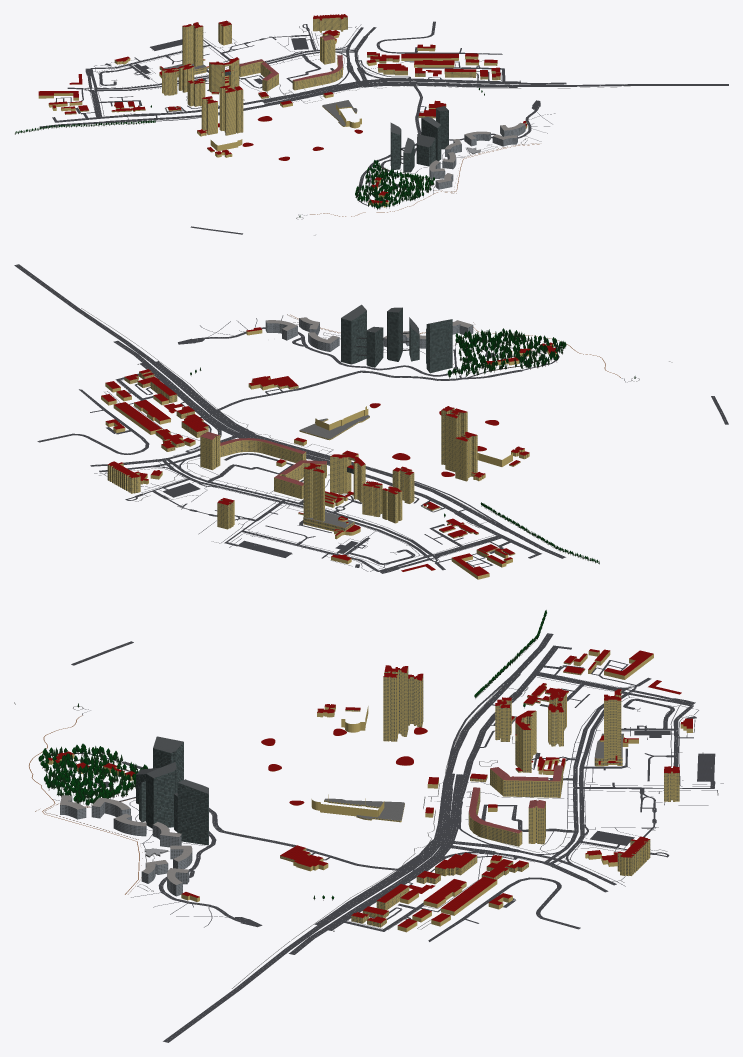
The model's file is osm3d.glb.
3 views of the same model, one above another, from view 1: azimuth 30°, elevation 25°; view 2: azimuth 150°, elevation 25°; view 3: azimuth 270°, elevation 25° (orthographic). The views are drawn at different scales.
Visible parts, largest first — view 1: ASPHALT, Plaster002, RoofingTiles010, Windows, TextureAtlas 99ebfc47, GLASS_WALL, Concrete034.002, Concrete034, Windows.001, Concrete034.001, RoofingTiles010.001; view 2: ASPHALT, Plaster002, RoofingTiles010, Windows, GLASS_WALL, TextureAtlas 99ebfc47, Concrete034.002, Concrete034, RoofingTiles010.001, Windows.001; view 3: ASPHALT, Plaster002, RoofingTiles010, Windows, GLASS_WALL, TextureAtlas 99ebfc47, Concrete034.002, Concrete034, Windows.001, RoofingTiles010.001, Concrete034.001.
Part boxes in pixels (box(x1,y1,x2,y2)): ASPHALT: box(39, 21, 728, 234); Plaster002: box(38, 17, 527, 207); RoofingTiles010: box(38, 14, 527, 203); Windows: box(65, 17, 500, 151); TextureAtlas 99ebfc47: box(15, 88, 484, 217); GLASS_WALL: box(225, 71, 448, 172); Concrete034.002: box(429, 122, 525, 189); Concrete034: box(100, 26, 630, 235); Windows.001: box(430, 126, 524, 189); Concrete034.001: box(390, 106, 448, 153); RoofingTiles010.001: box(239, 34, 342, 81); ASPHALT: box(14, 264, 728, 573); Plaster002: box(101, 330, 556, 579); RoofingTiles010: box(101, 327, 556, 575); Windows: box(107, 372, 519, 554); GLASS_WALL: box(341, 308, 452, 473); TextureAtlas 99ebfc47: box(190, 328, 635, 564); Concrete034.002: box(265, 317, 473, 351); Concrete034: box(81, 308, 672, 564); RoofingTiles010.001: box(200, 432, 326, 485); Windows.001: box(266, 320, 472, 351); ASPHALT: box(53, 633, 723, 1042); Plaster002: box(47, 651, 692, 932); RoofingTiles010: box(48, 649, 692, 927); Windows: box(280, 657, 679, 926); GLASS_WALL: box(136, 742, 208, 845); TextureAtlas 99ebfc47: box(38, 610, 546, 900); Concrete034.002: box(60, 795, 192, 896); Concrete034: box(14, 685, 718, 988); Windows.001: box(60, 801, 192, 895); RoofingTiles010.001: box(468, 765, 562, 833); Concrete034.001: box(136, 736, 208, 796).
Size of the model in its own units: 1615 by 115 by 1137.
26 materials, 25 textured.
